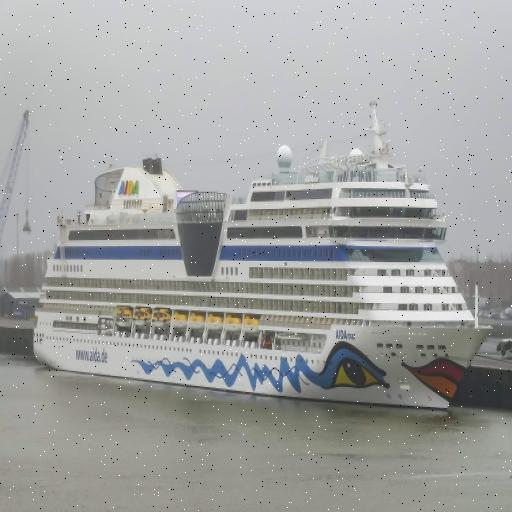cruises: (24, 91, 493, 429)
